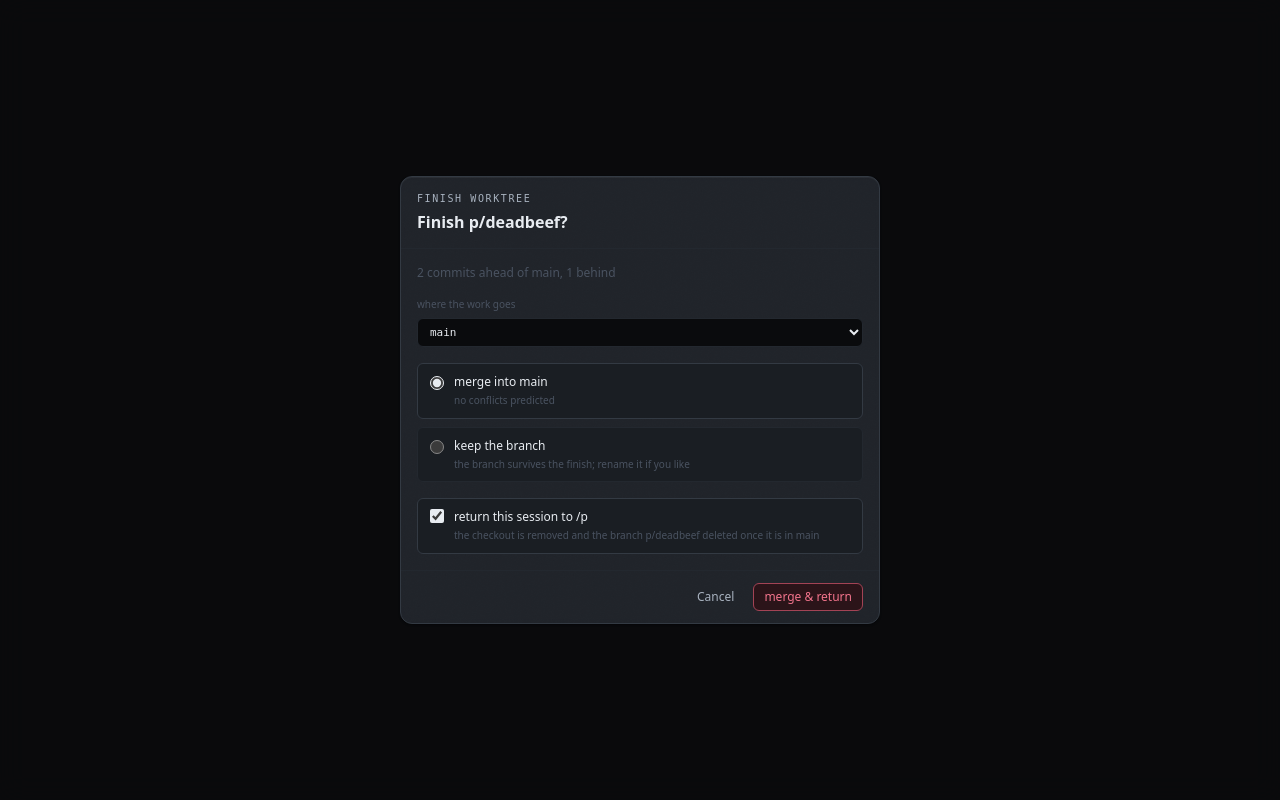
FinishWorktreeDialog › pre-fills the rename field from the model for this project's mint (issue #438)
The image size is (1280, 800).
What coordinates should you click on to do the following:
click the 2nd radio button
I would click on:
 (437, 447)
Its box is [430,440,444,454].
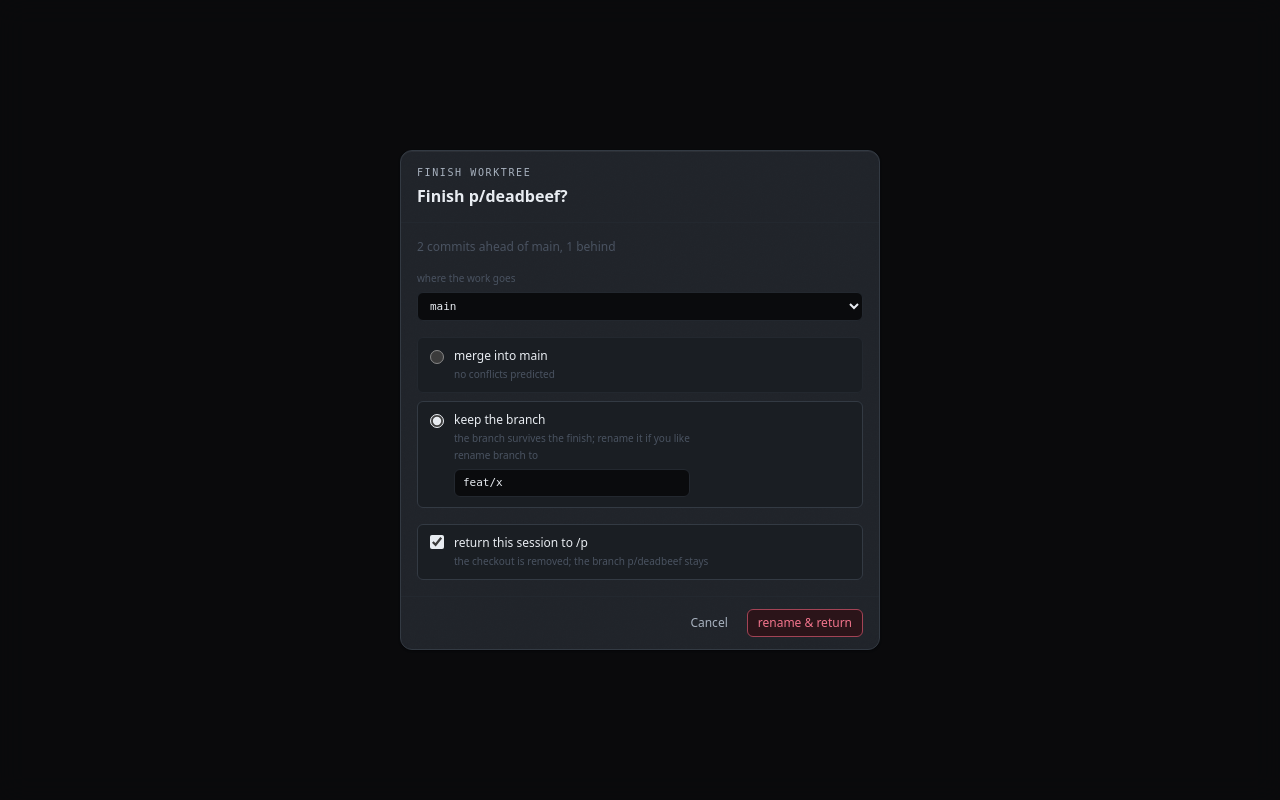
Now the field labelled "rename branch to" holds "feat/x", box [454,469,690,497]
